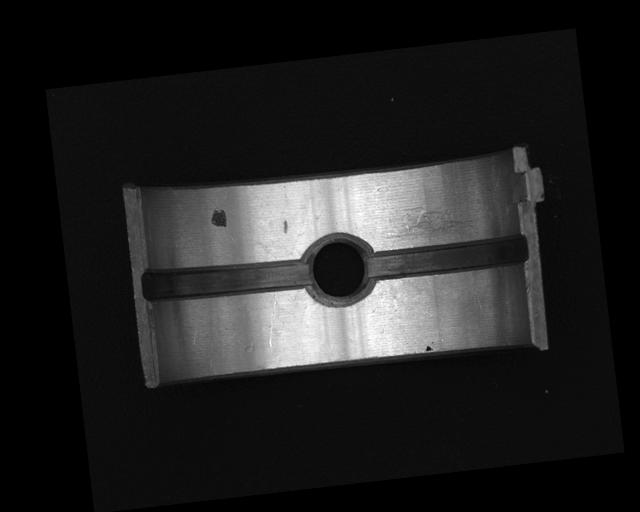blot: (209, 207, 228, 228), (424, 340, 435, 352)
bruise: (281, 219, 288, 234)
gap: (140, 248, 314, 305), (366, 237, 529, 282)
hole: (304, 231, 378, 309)
nick: (262, 293, 281, 347)
scratch: (378, 205, 486, 243)
